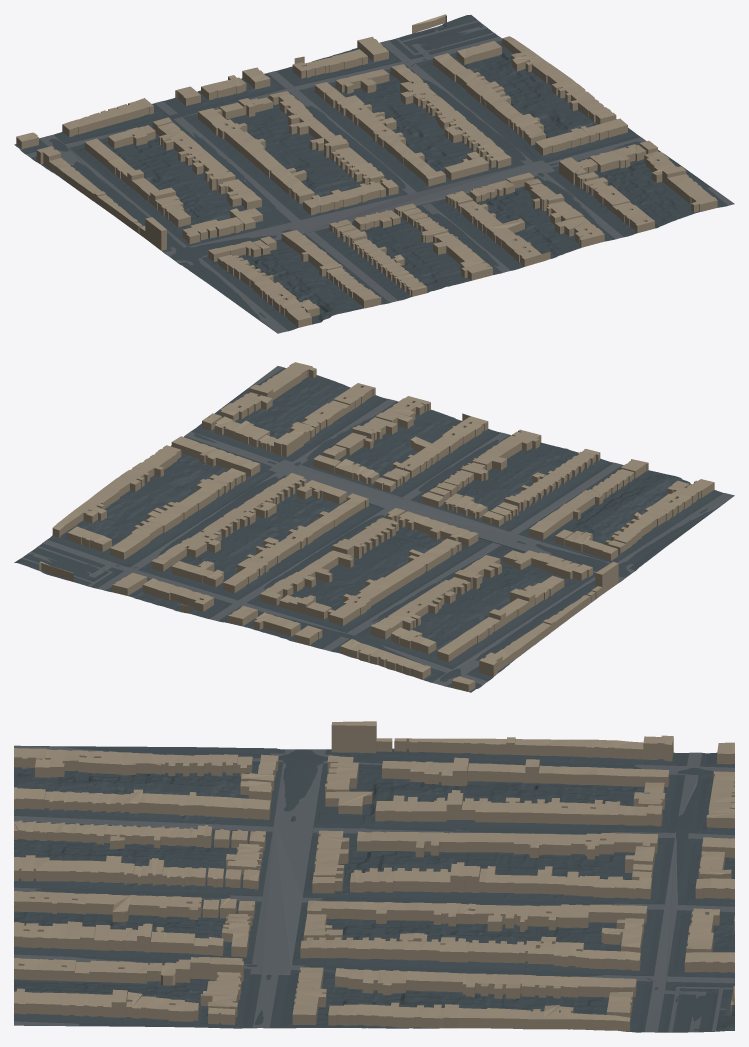
Rendered from epsg26910-1416-10881.lod0.glb.
The picture shows the model from 3 angles, top to bottom: view 1: azimuth 30°, elevation 25°; view 2: azimuth 150°, elevation 25°; view 3: azimuth 270°, elevation 25°; orthographic projection. The views are drawn at different scales.
Visible parts, largest first — view 1: epsg26910-1416-10881-lod0; view 2: epsg26910-1416-10881-lod0; view 3: epsg26910-1416-10881-lod0.
Boxes of the visible parts, x1=… form: epsg26910-1416-10881-lod0: x1=14, y1=14, x2=734, y2=333; epsg26910-1416-10881-lod0: x1=14, y1=362, x2=734, y2=692; epsg26910-1416-10881-lod0: x1=14, y1=721, x2=734, y2=1032.
Size of the model in its own units: 384 by 27.76 by 384.
